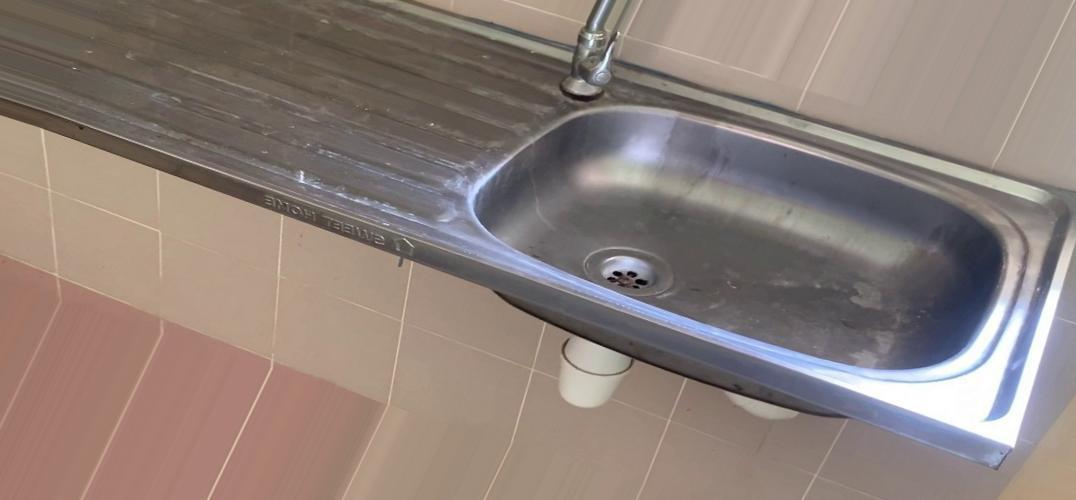Lavaplatos: (405, 5, 1041, 473)
